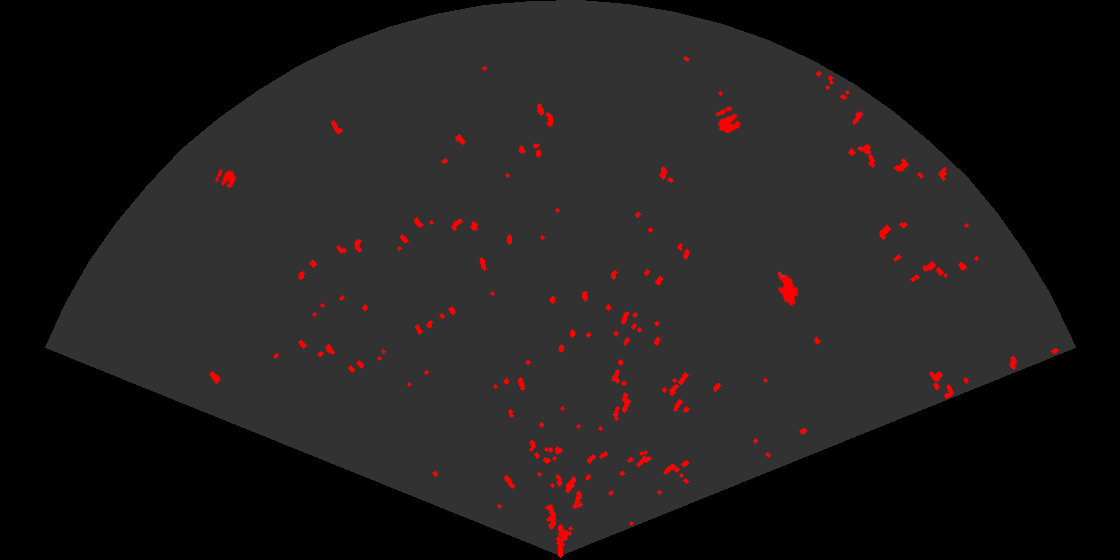AUV: (775, 269, 800, 308)
ball: (714, 105, 743, 135), (213, 167, 238, 190)
